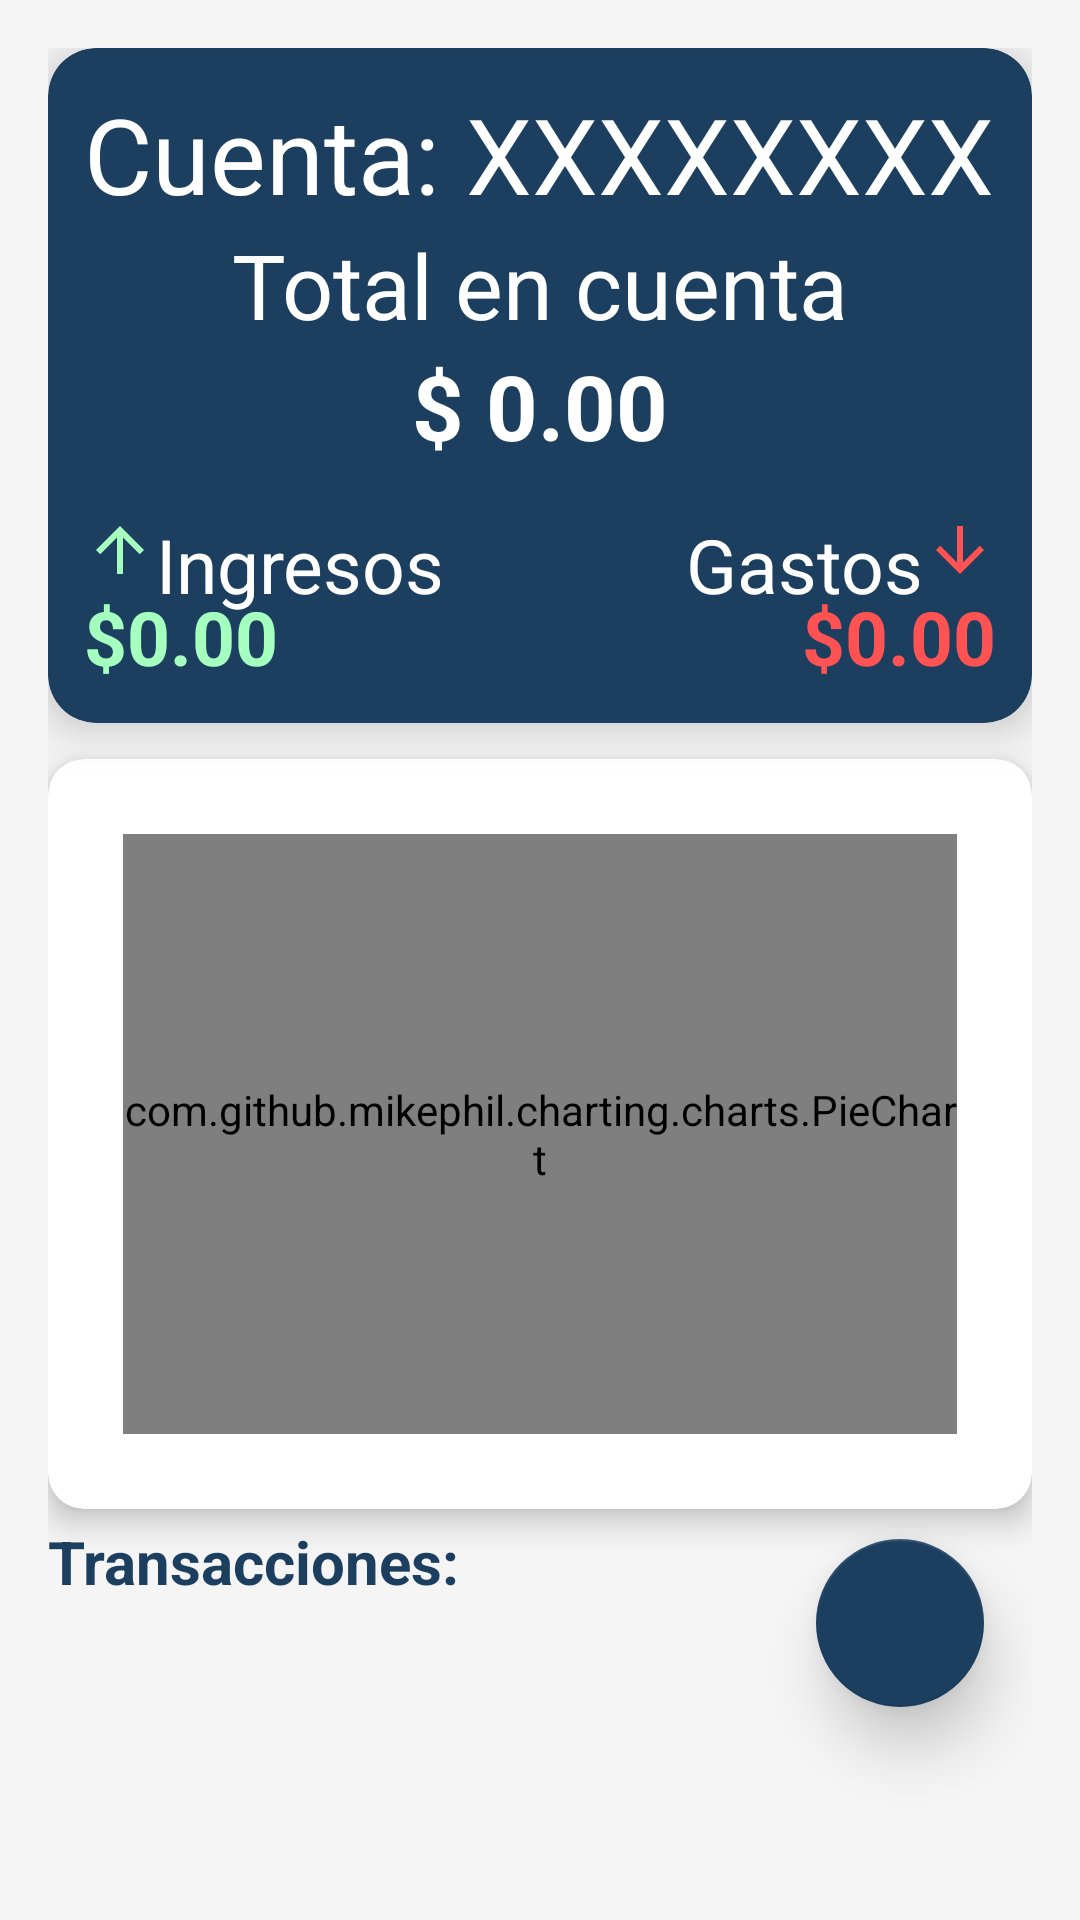

Named icons in this screenshot (1080×1920) and their bounding boxes, (x1, y1, x2, y2):
arrow downward: (936, 526, 984, 574)
arrow upward: (96, 526, 144, 574)
